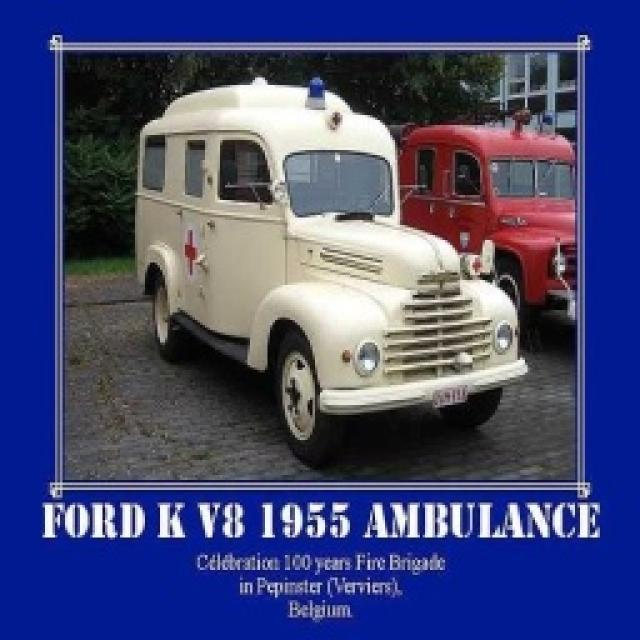emergency-vehicle: (131, 81, 528, 447)
